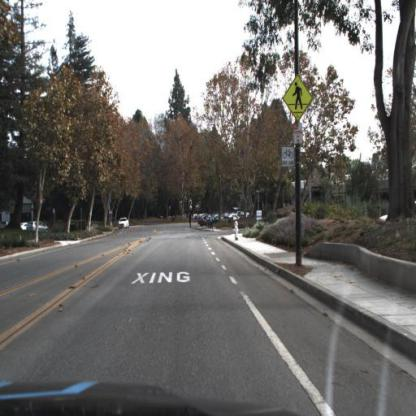biker: (208, 215, 216, 233)
car: (24, 220, 52, 236), (117, 216, 131, 230)
pedestrian: (187, 206, 196, 232)
